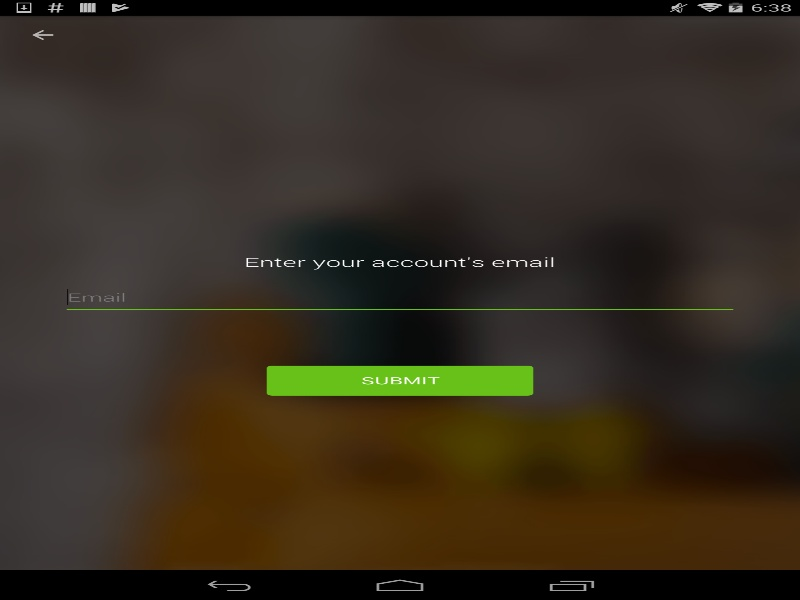Button: (266, 365, 533, 395), (0, 15, 85, 54)
Input: (66, 289, 733, 315)
